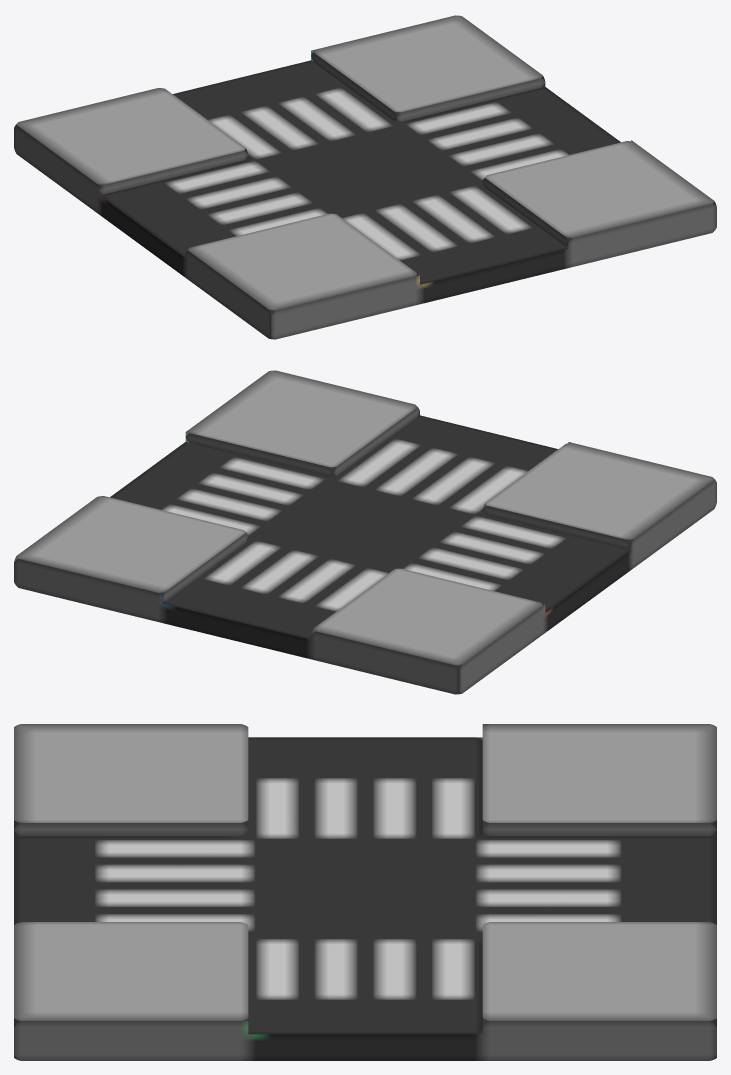
Rendered from Floor-Street-Cross.fbx.
The picture shows the model from 3 angles, top to bottom: view 1: azimuth 30°, elevation 25°; view 2: azimuth 150°, elevation 25°; view 3: azimuth 270°, elevation 25°; orthographic projection. The views are drawn at different scales.
Parts seen in each view (by area): view 1: cuboid; view 2: cuboid; view 3: cuboid.
Part boxes in pixels (left/top/right/bottom): cuboid: left=14, top=15, right=716, bottom=339; cuboid: left=14, top=370, right=716, bottom=694; cuboid: left=14, top=724, right=716, bottom=1060.
Bounding box in the file's own units: 300 × 18.75 × 300.
Materials: 1 (1 with a texture image).
